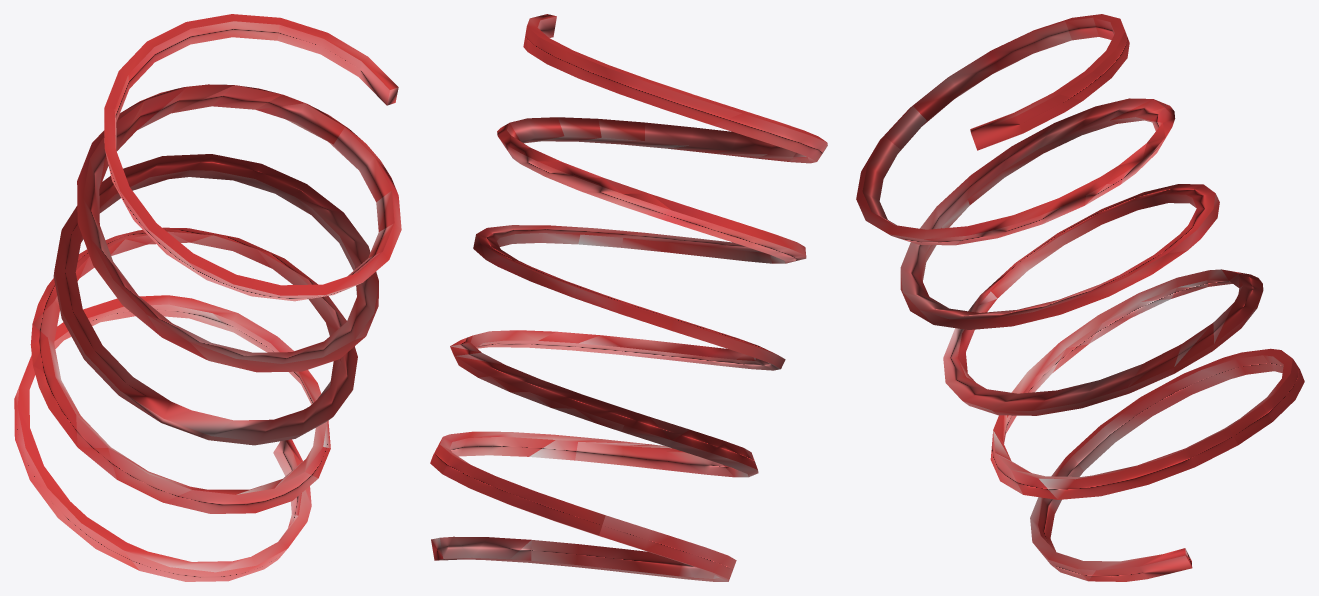
The model's file is speed-coil-face-corner.glb.
3 views of the same model, side by side, from view 1: azimuth 30°, elevation 25°; view 2: azimuth 150°, elevation 25°; view 3: azimuth 270°, elevation 25° (orthographic). The views are drawn at different scales.
Visible parts, largest first — view 1: Asset3DLoader.sceneRoot; view 2: Asset3DLoader.sceneRoot; view 3: Asset3DLoader.sceneRoot.
Boxes of the visible parts, x1,y1,x2,y2 form: Asset3DLoader.sceneRoot: (14, 14, 401, 581); Asset3DLoader.sceneRoot: (430, 14, 827, 581); Asset3DLoader.sceneRoot: (856, 14, 1304, 581).
Bounding box in the file's own units: 0.3749 × 0.6882 × 0.5422.
